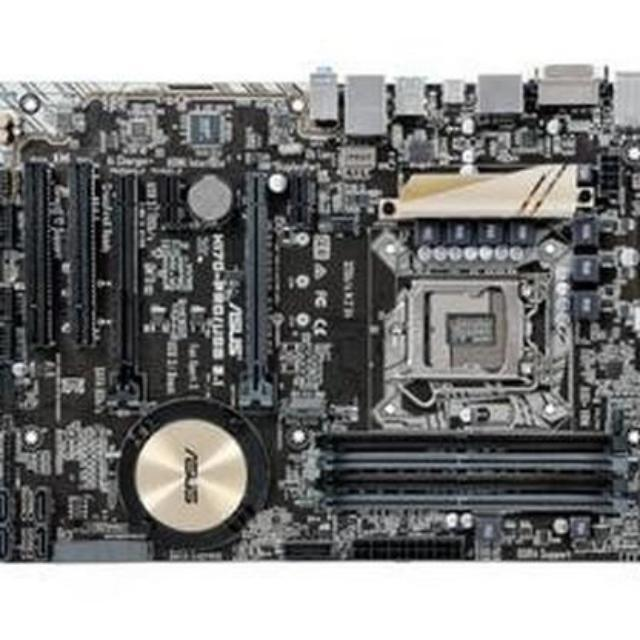Mainboard: (0, 77, 640, 565)
